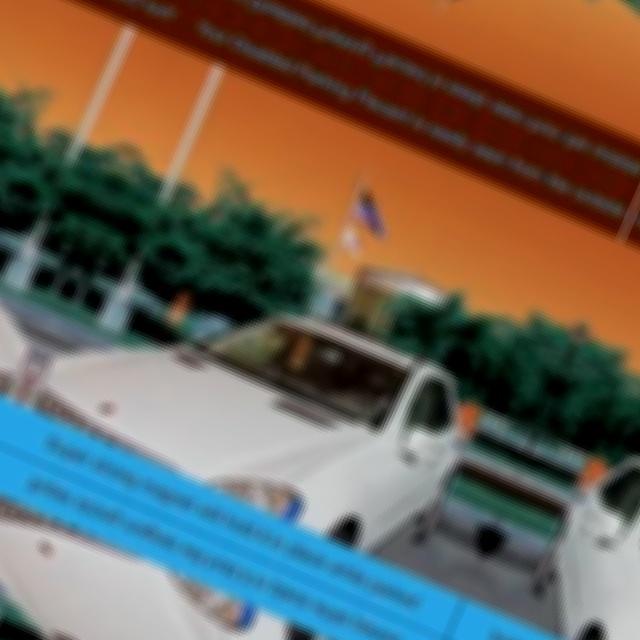ISA: (588, 459, 608, 480), (458, 402, 477, 423), (171, 292, 189, 311), (291, 347, 304, 362)
